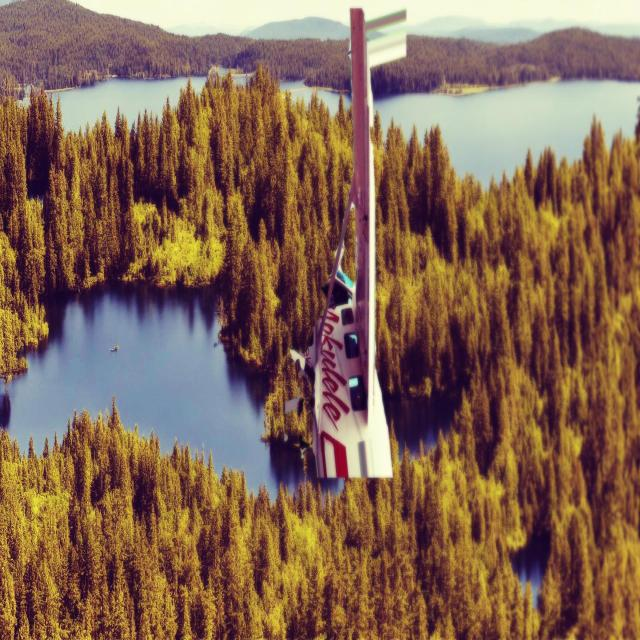airplane: (284, 6, 407, 481)
